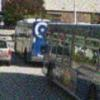buses: (41, 20, 100, 100)
